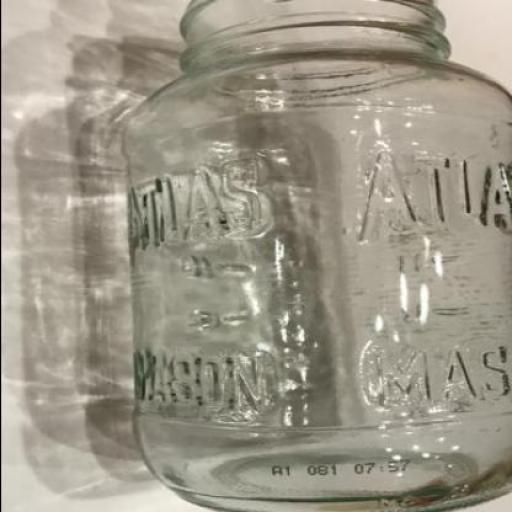glass: (124, 0, 511, 512)
